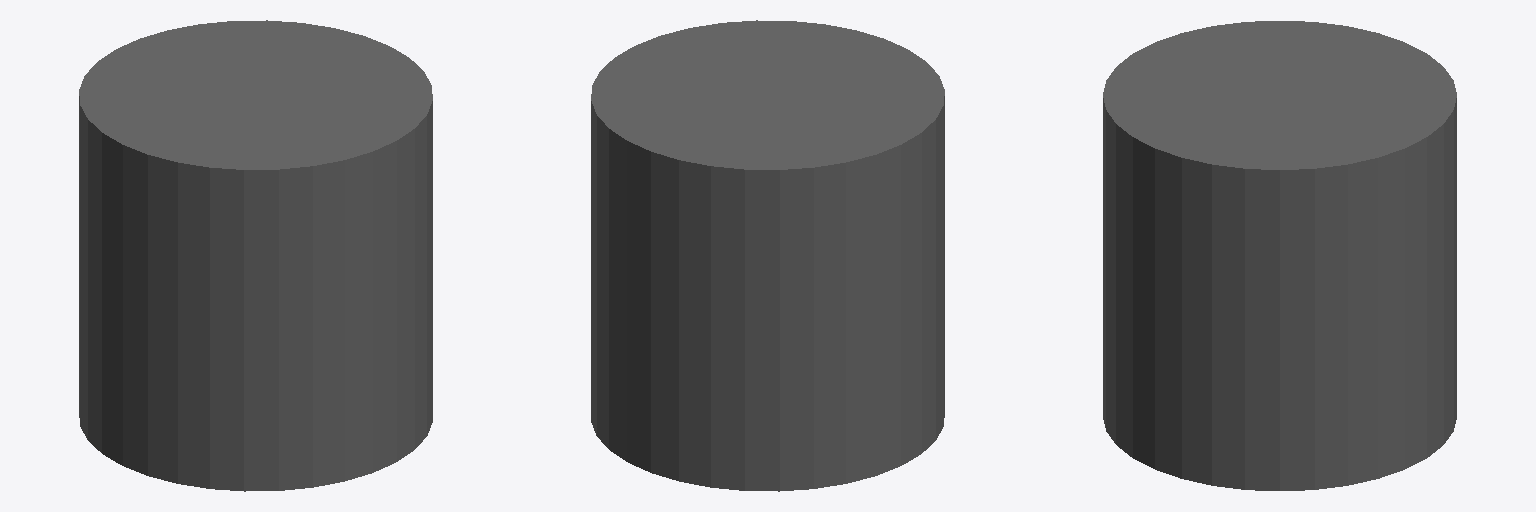
The robot description file, URDF, robot "revision_heldout_cylinder_r017_h034":
<?xml version="1.0"?>
<robot name="revision_heldout_cylinder_r017_h034">
  <link name="cylinder">
    <inertial><origin xyz="0 0 0.17"/><mass value="100000"/><inertia ixx="1" ixy="0" ixz="0" iyy="1" iyz="0" izz="1"/></inertial>
    <visual><origin xyz="0 0 0.17"/><geometry><cylinder radius="0.17" length="0.34"/></geometry><material name="gray"><color rgba="0.45 0.45 0.45 1"/></material></visual>
    <collision><origin xyz="0 0 0.17"/><geometry><cylinder radius="0.17" length="0.34"/></geometry></collision>
  </link>
</robot>

--- Facts derived from the render (not from the file) ---
The picture shows the robot from 3 angles, left to right: view 1: azimuth 30°, elevation 25°; view 2: azimuth 150°, elevation 25°; view 3: azimuth 270°, elevation 25°; orthographic projection.
Model revision_heldout_cylinder_r017_h034 with 1 links and 0 joints (none), rooted at cylinder, posed every joint at zero.
Visible links, largest first — view 1: cylinder; view 2: cylinder; view 3: cylinder.
Link boxes in pixels (x1=…): cylinder: x1=79, y1=20, x2=432, y2=491; cylinder: x1=591, y1=20, x2=944, y2=491; cylinder: x1=1103, y1=21, x2=1456, y2=490.
Bounding box of the posed robot: 0.34 × 0.34 × 0.34 m (x, y, z).
Geometry: primitives only (box / cylinder / sphere), no mesh files.
